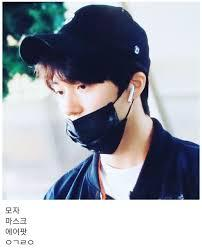earphone: (124, 83, 136, 102)
